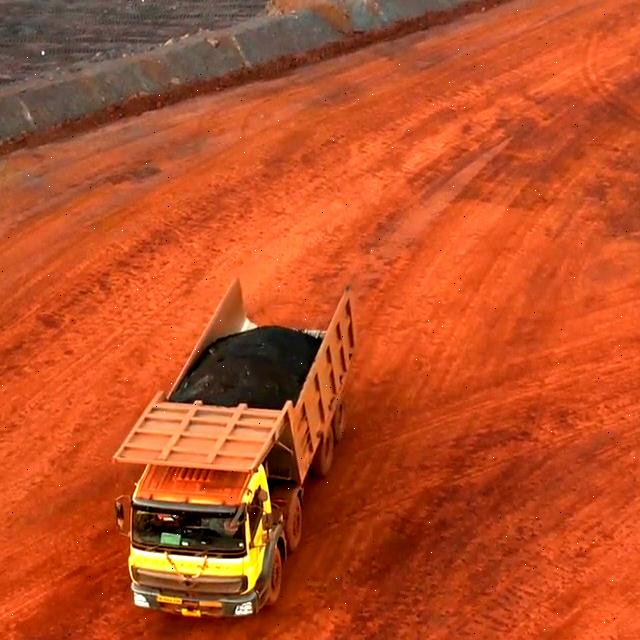Dumper truck: (121, 419, 280, 614)
